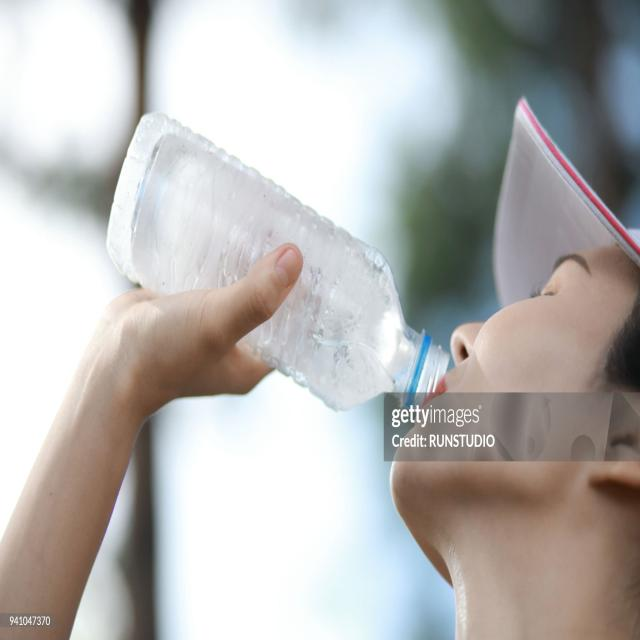bottle: (104, 110, 462, 413)
